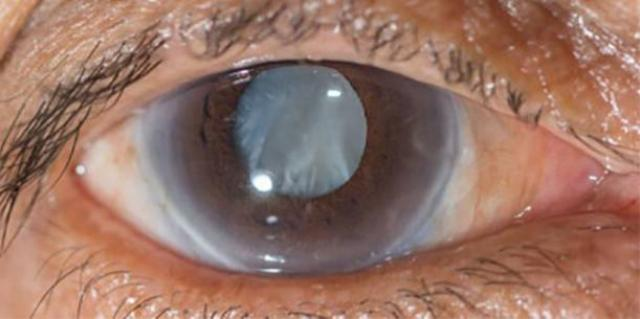eye: (135, 54, 473, 272)
